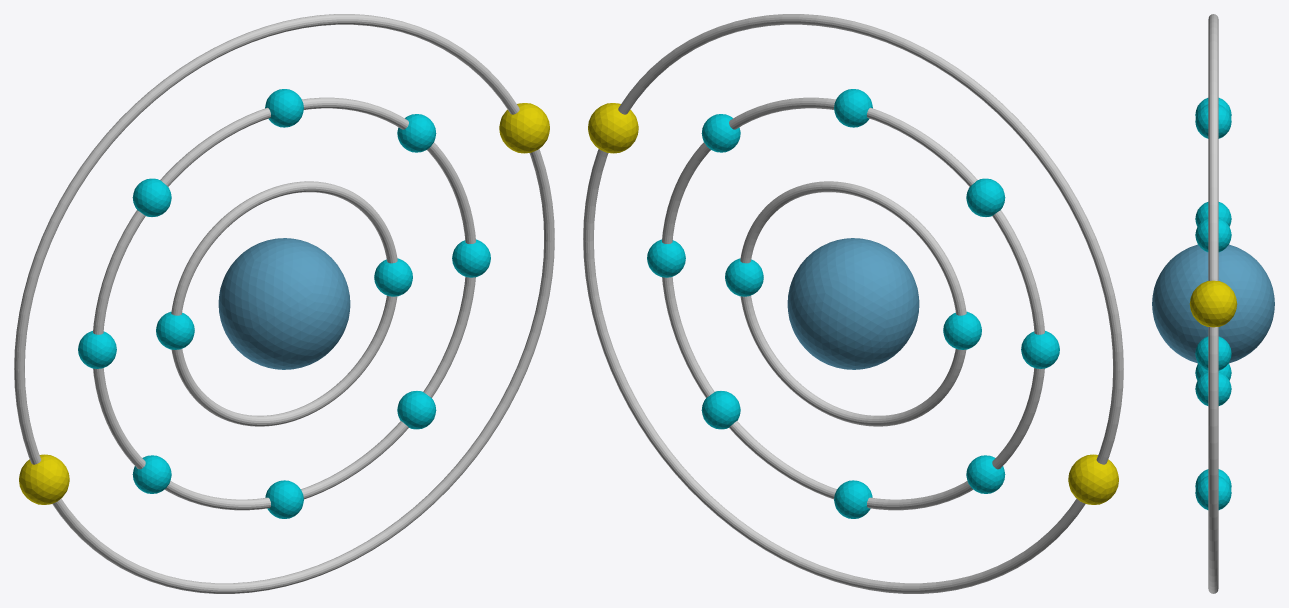
3 renders of one model, left to right at view 1: azimuth 30°, elevation 25°; view 2: azimuth 150°, elevation 25°; view 3: azimuth 270°, elevation 25°, orthographic. The views are drawn at different scales.
Parts seen in each view (by area): view 1: Camada_3, Nucleo_Mg, Camada_2, Camada_1, Eletron_Valencia_2, Eletron_Valencia_1, Eletron_C2_4, Eletron_C2_8, Eletron_C1_2, Eletron_C2_5, Eletron_C1_1, Eletron_C2_3 (+4 smaller); view 2: Camada_3, Nucleo_Mg, Camada_2, Camada_1, Eletron_Valencia_2, Eletron_Valencia_1, Eletron_C2_4, Eletron_C2_8, Eletron_C1_2, Eletron_C2_5, Eletron_C1_1, Eletron_C2_3 (+4 smaller); view 3: Nucleo_Mg, Camada_3, Eletron_Valencia_1, Eletron_C1_1, Eletron_C2_3, Eletron_C2_1, Eletron_C2_2, Eletron_C2_8, Eletron_C2_5, Eletron_C2_6, Eletron_C2_4, Eletron_C2_7.
Part boxes in pixels (left/top/right/bottom): Camada_3: left=14, top=14, right=554, bottom=593; Nucleo_Mg: left=218, top=238, right=350, bottom=369; Camada_2: left=93, top=97, right=475, bottom=510; Camada_1: left=171, top=181, right=397, bottom=426; Eletron_Valencia_2: left=19, top=454, right=69, bottom=504; Eletron_Valencia_1: left=499, top=103, right=549, bottom=153; Eletron_C2_4: left=132, top=178, right=171, bottom=216; Eletron_C2_8: left=397, top=391, right=436, bottom=429; Eletron_C1_2: left=156, top=311, right=194, bottom=349; Eletron_C2_5: left=78, top=331, right=116, bottom=368; Eletron_C1_1: left=374, top=258, right=412, bottom=296; Eletron_C2_3: left=265, top=89, right=303, bottom=127; Camada_3: left=583, top=14, right=1123, bottom=593; Nucleo_Mg: left=787, top=238, right=919, bottom=369; Camada_2: left=662, top=97, right=1044, bottom=510; Camada_1: left=740, top=181, right=966, bottom=426; Eletron_Valencia_2: left=1068, top=454, right=1118, bottom=504; Eletron_Valencia_1: left=588, top=103, right=638, bottom=153; Eletron_C2_4: left=966, top=178, right=1005, bottom=216; Eletron_C2_8: left=701, top=391, right=740, bottom=429; Eletron_C1_2: left=943, top=311, right=981, bottom=349; Eletron_C2_5: left=1021, top=331, right=1059, bottom=368; Eletron_C1_1: left=725, top=258, right=763, bottom=296; Eletron_C2_3: left=834, top=89, right=872, bottom=127; Nucleo_Mg: left=1152, top=244, right=1274, bottom=363; Camada_3: left=1208, top=14, right=1218, bottom=593; Eletron_Valencia_1: left=1189, top=280, right=1237, bottom=327; Eletron_C1_1: left=1195, top=336, right=1231, bottom=370; Eletron_C2_3: left=1195, top=104, right=1231, bottom=138; Eletron_C2_1: left=1195, top=372, right=1231, bottom=405; Eletron_C2_2: left=1195, top=218, right=1231, bottom=252; Eletron_C2_8: left=1195, top=476, right=1231, bottom=509; Eletron_C2_5: left=1195, top=202, right=1231, bottom=226; Eletron_C2_6: left=1195, top=363, right=1231, bottom=380; Eletron_C2_4: left=1195, top=98, right=1231, bottom=117; Eletron_C2_7: left=1195, top=469, right=1231, bottom=489.
Size of the model in its own units: 2.08 by 2.08 by 0.44.
